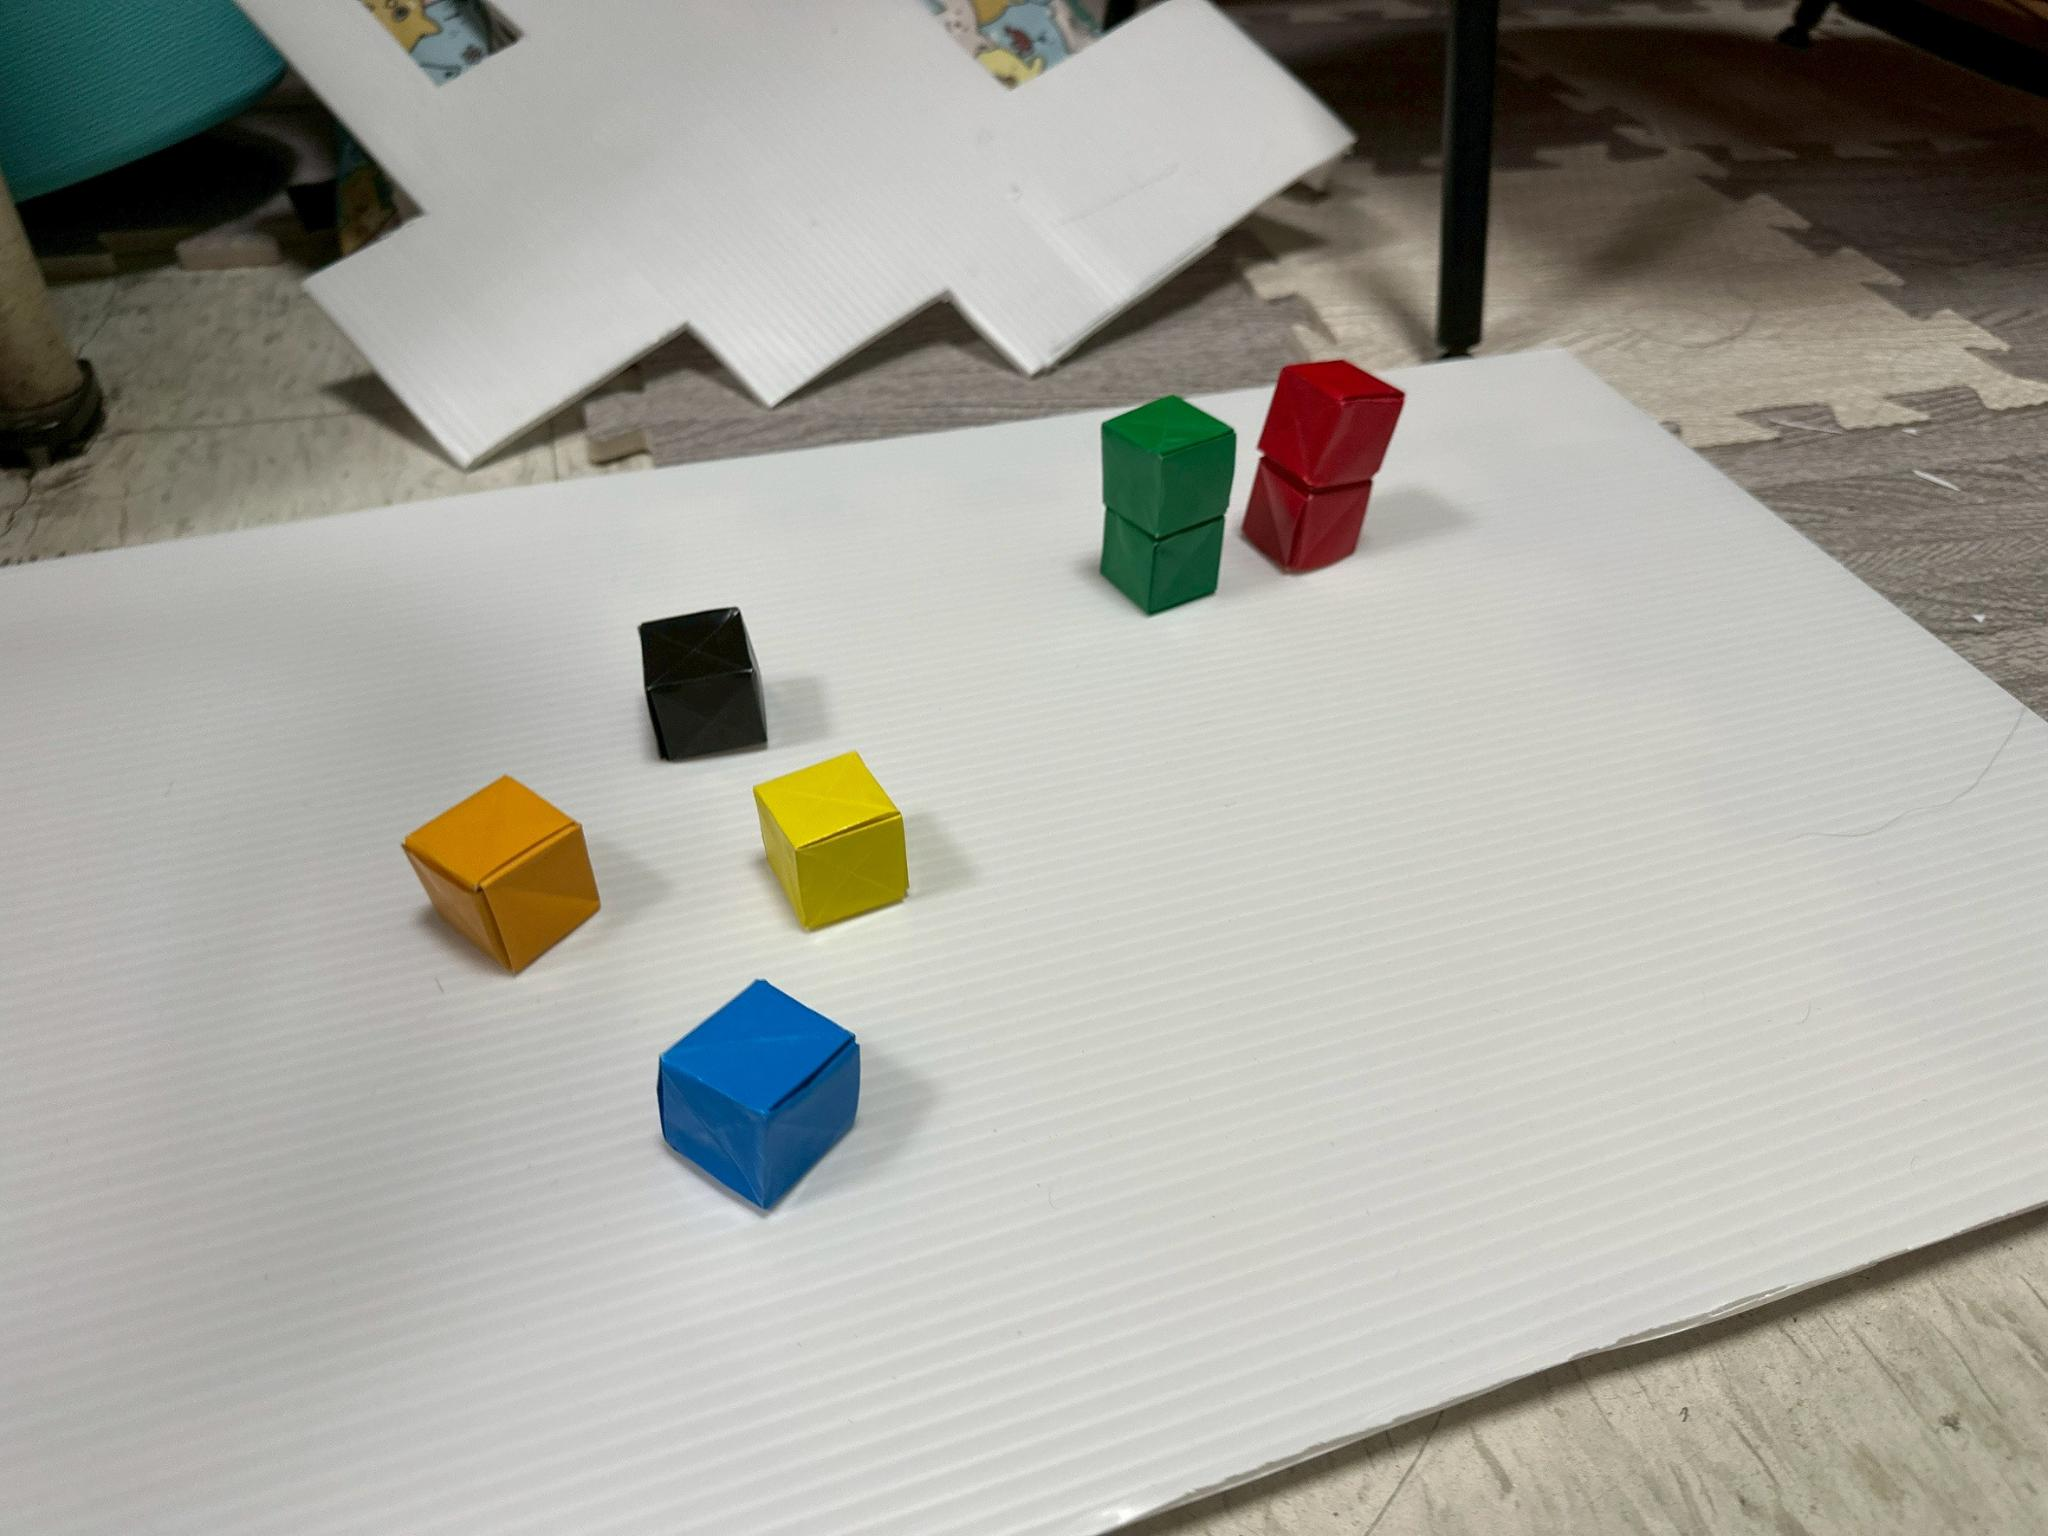cube: (656, 981, 860, 1212), (403, 778, 600, 973), (755, 753, 908, 929), (639, 608, 764, 758), (1101, 397, 1235, 537), (1259, 360, 1403, 490), (1242, 458, 1371, 570), (1100, 508, 1224, 613)
